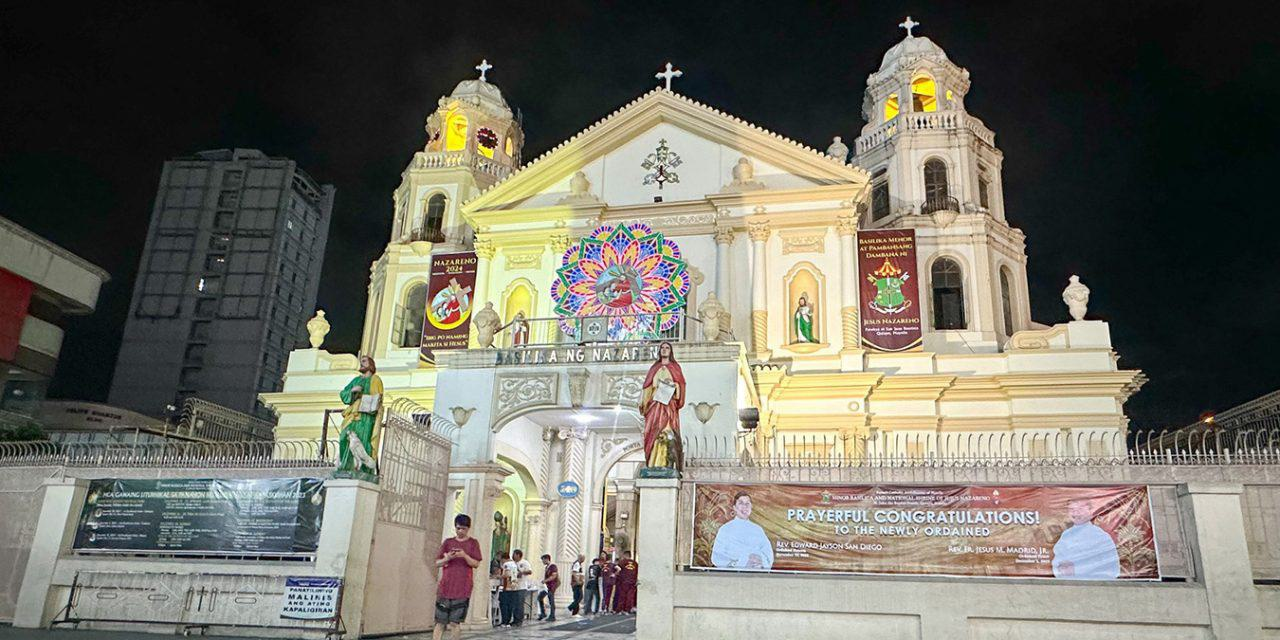quiapo_church_quiapo_manila: (340, 13, 1070, 635)
